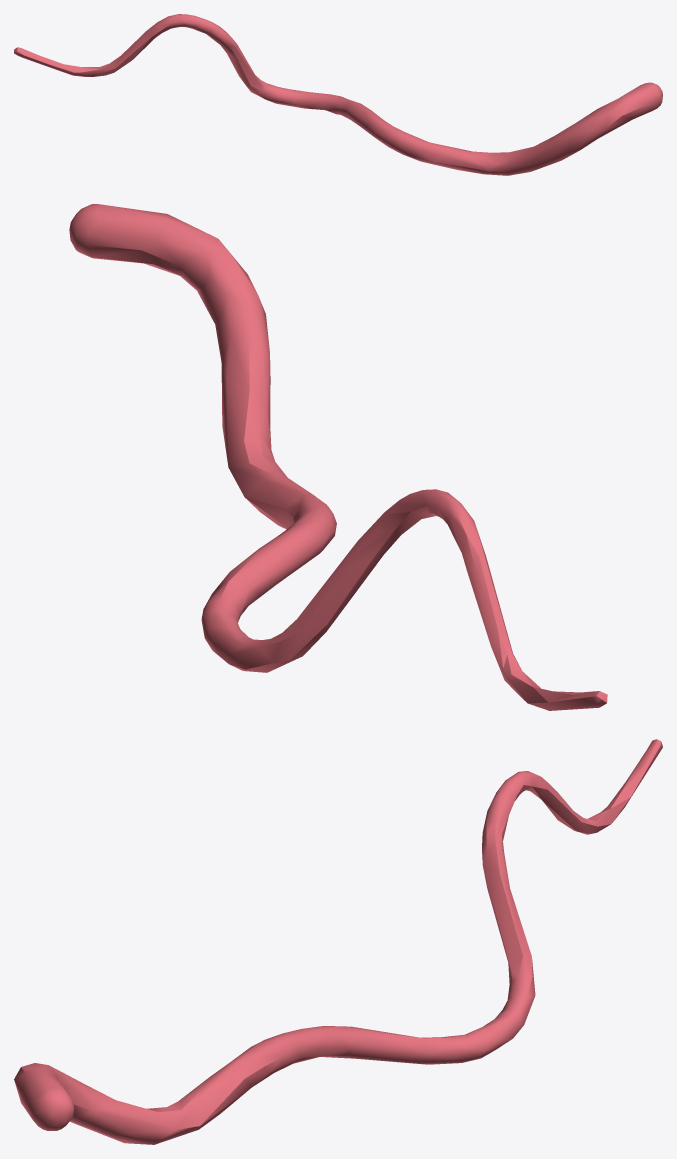
File: fma50544_fj1656.glb
3 renders of one model, top to bottom at view 1: azimuth 30°, elevation 25°; view 2: azimuth 150°, elevation 25°; view 3: azimuth 270°, elevation 25°, orthographic. The views are drawn at different scales.
Visible parts, largest first — view 1: FMA50544_FJ1656; view 2: FMA50544_FJ1656; view 3: FMA50544_FJ1656.
Boxes of the visible parts, x1,y1,x2,y2 form: FMA50544_FJ1656: (14,14,662,175); FMA50544_FJ1656: (69,204,607,710); FMA50544_FJ1656: (14,739,662,1144).
Bounding box in the file's own units: 0.0363 × 0.00977 × 0.0281.
